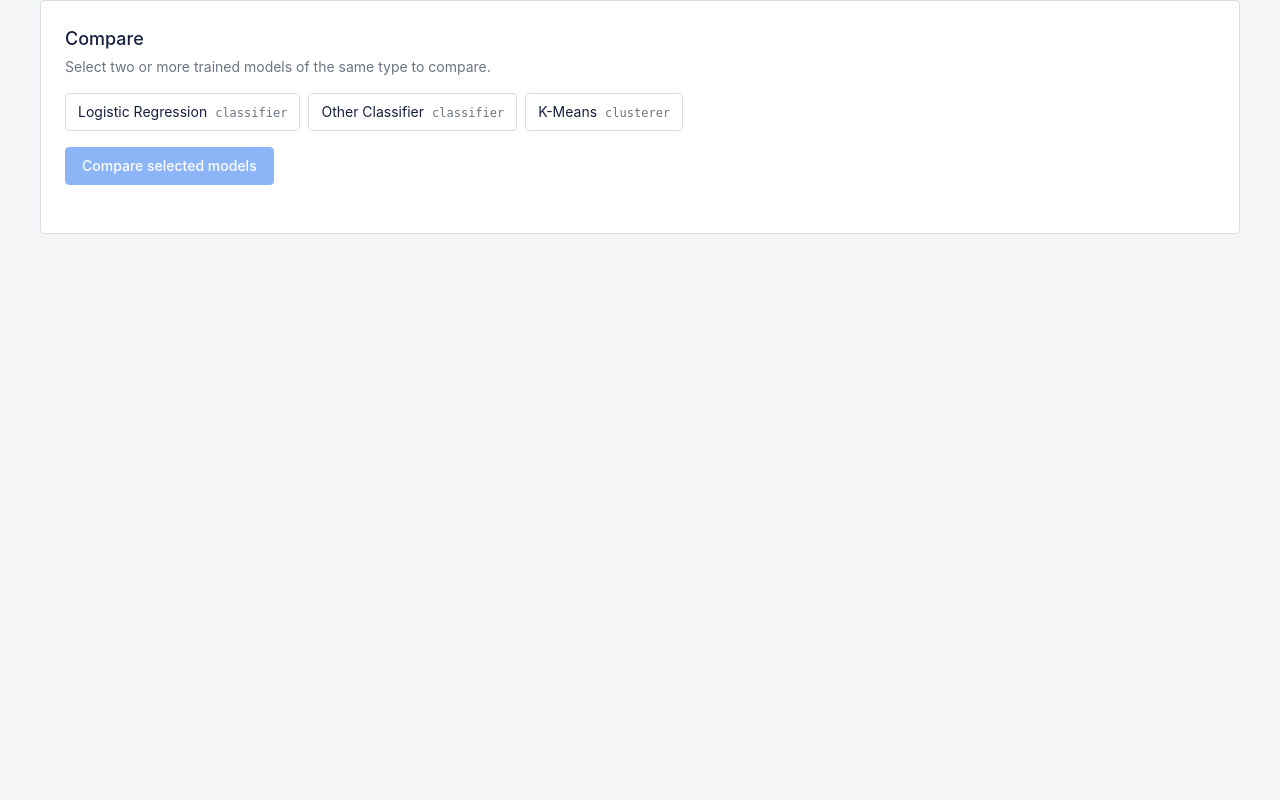
CompareScreen › compares two same-type models and renders the metrics table
Click the button "Logistic Regression": point(183, 112) [65,93,300,131]
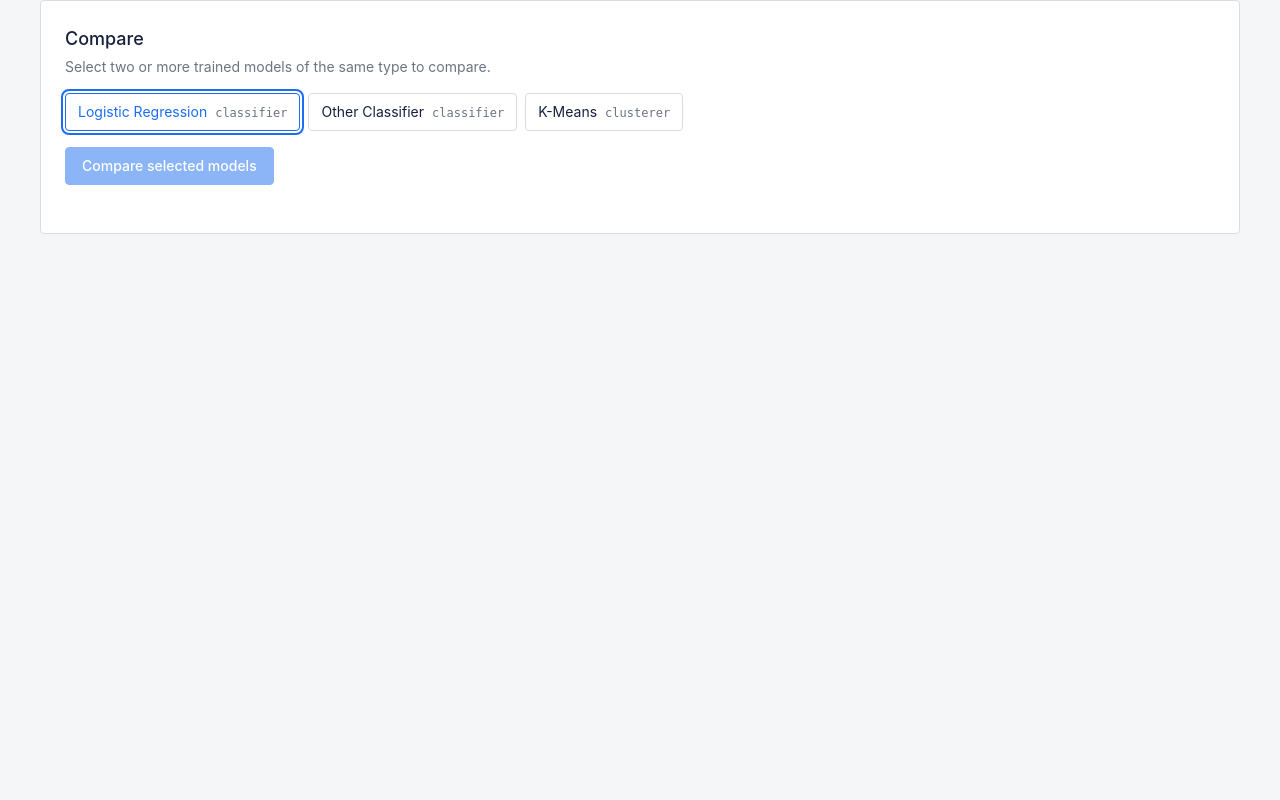
Click the button "Other Classifier": point(413, 112) [308,93,517,131]
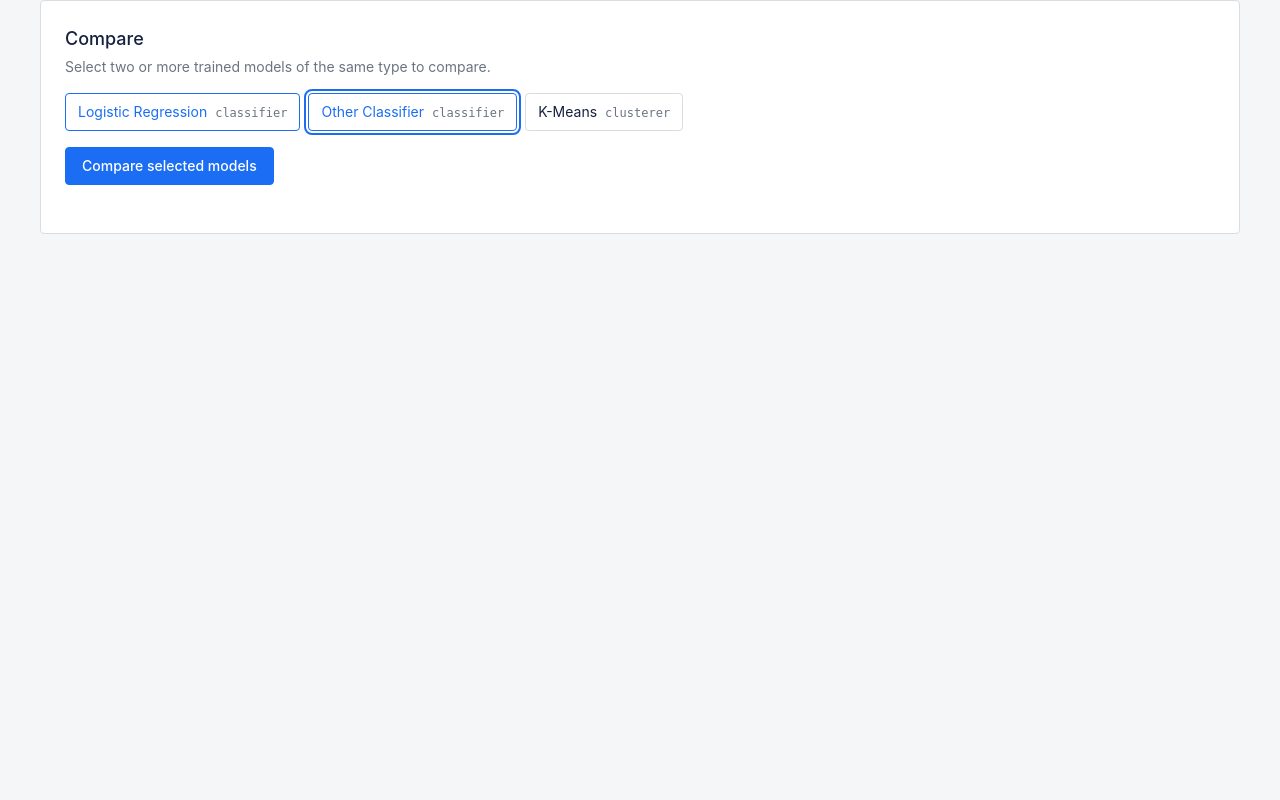
Click the button "Compare selected models": point(169, 166) [65,147,274,185]
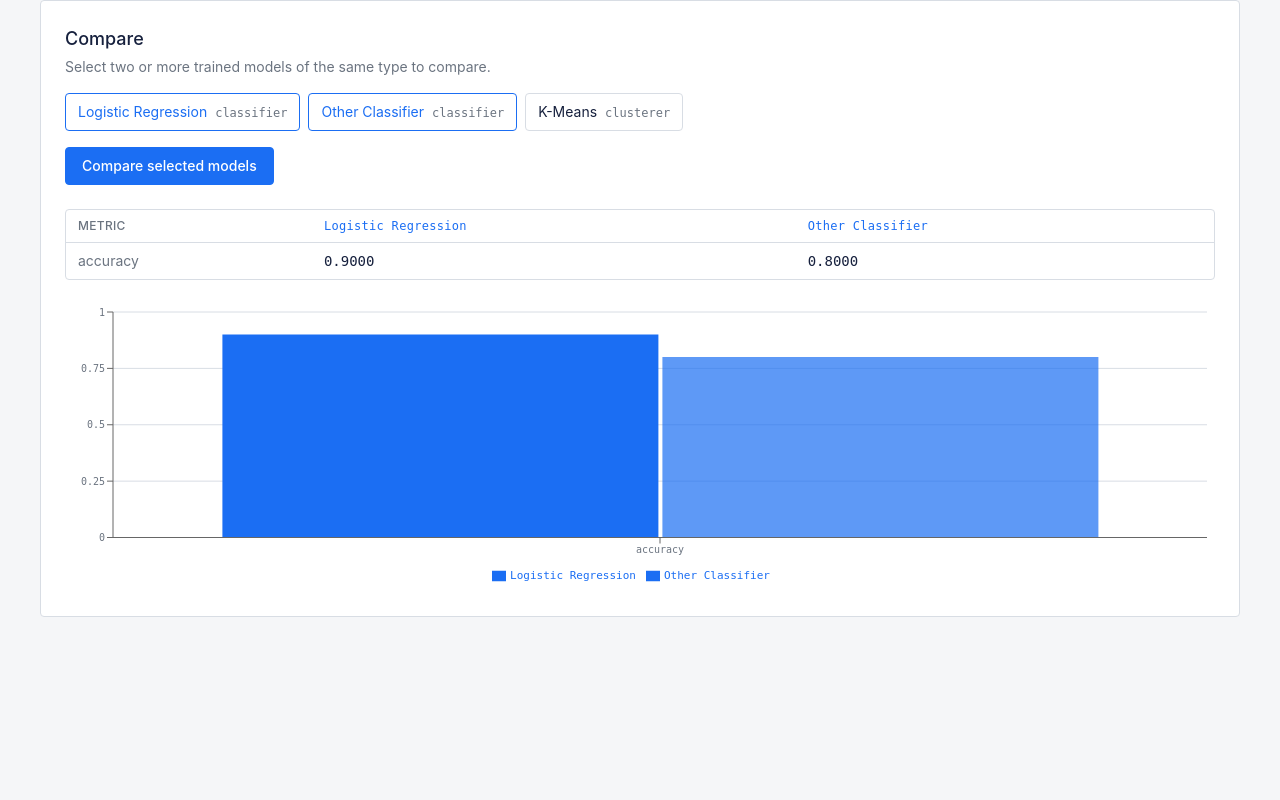
Now the text "0.9000" is shown, box [312,242,796,279]
Now the text "0.8000" is shown, box [796,242,1214,279]
